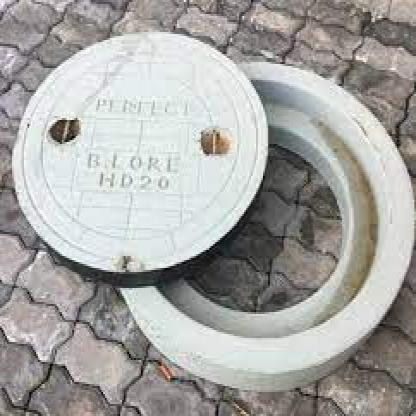fake manhole: (5, 33, 408, 379)
